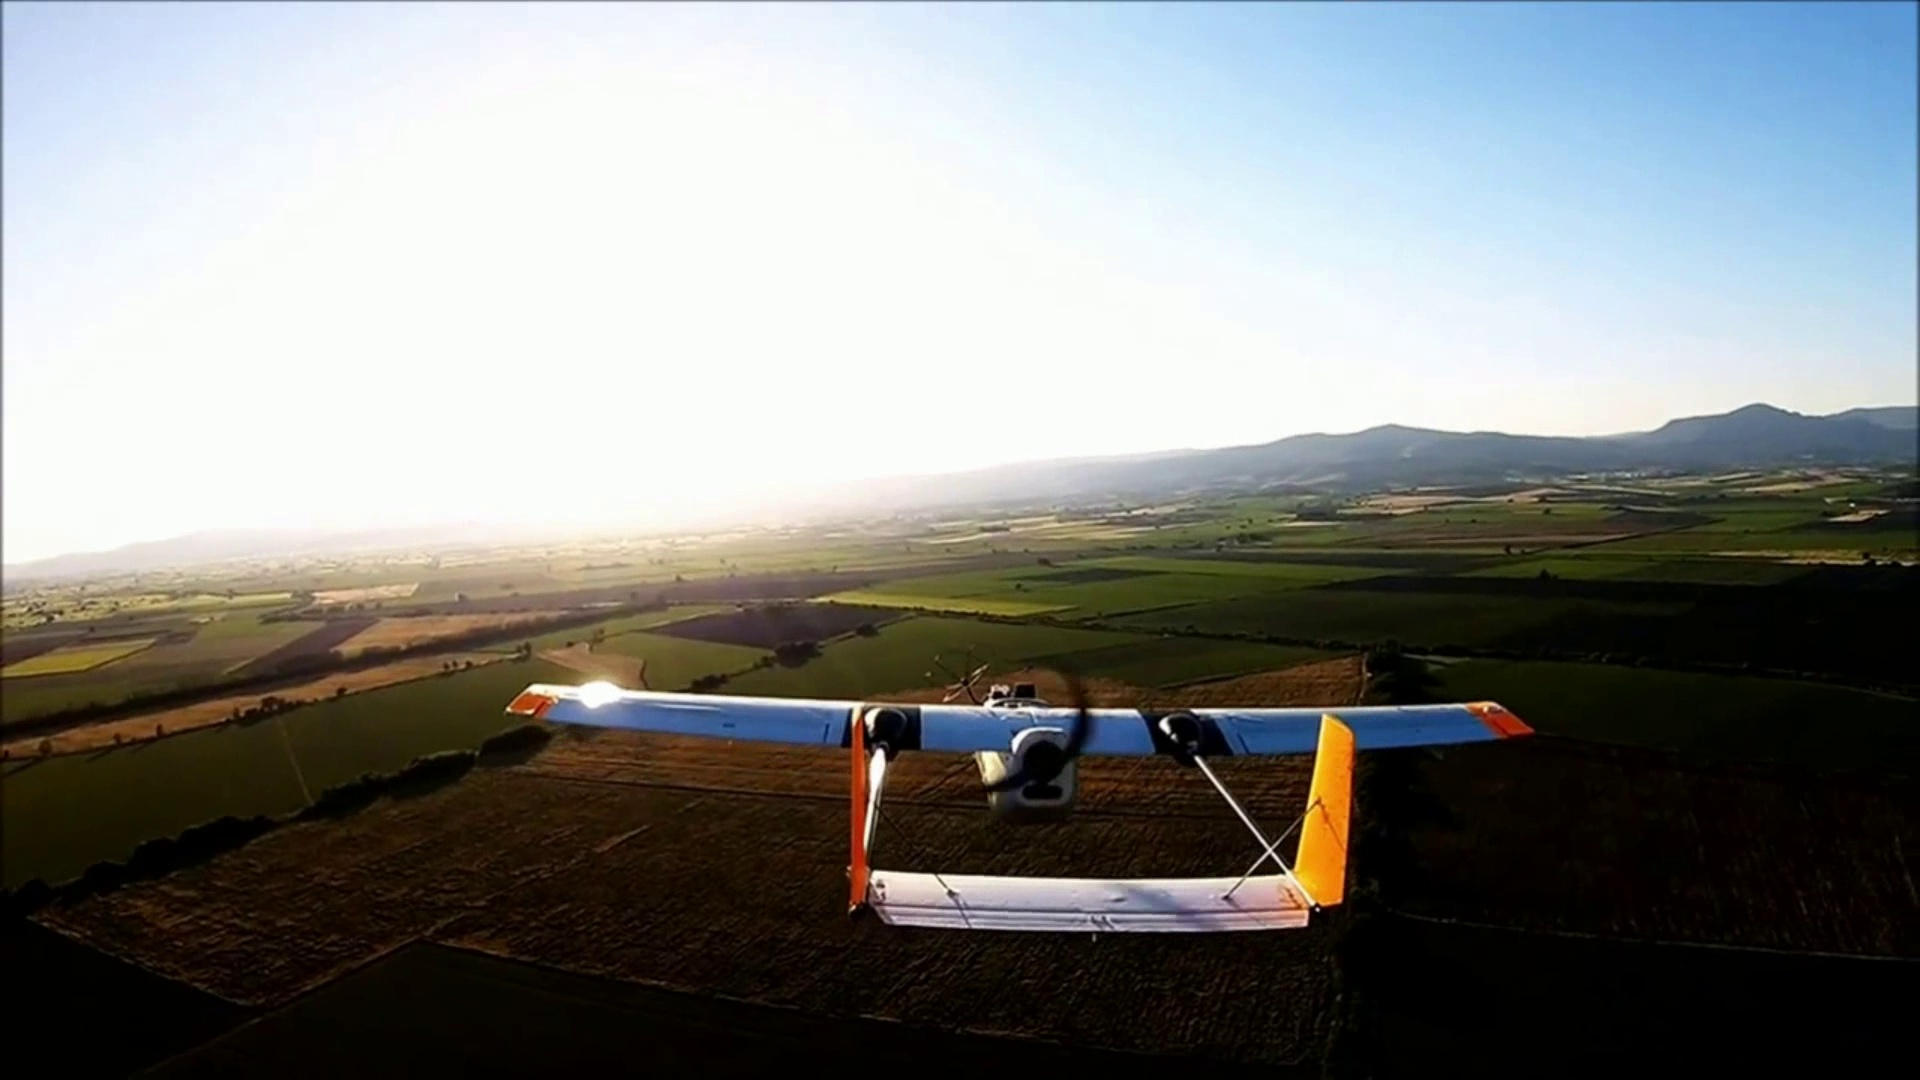airplane: (504, 673, 1536, 938)
